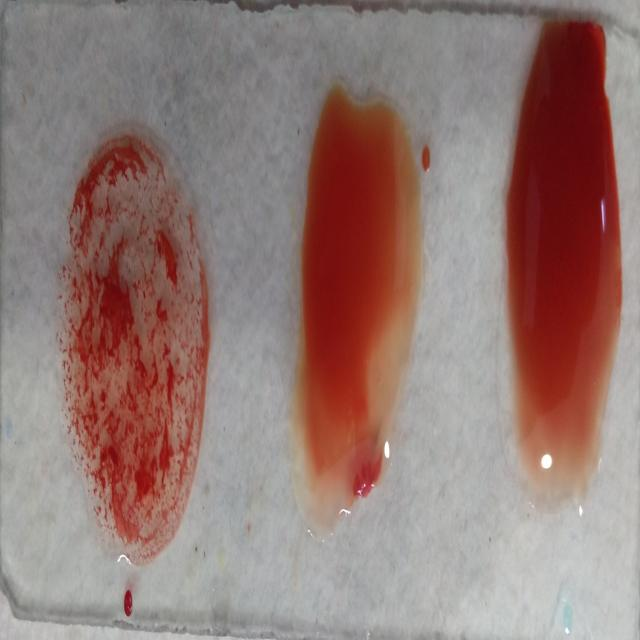D: (63, 119, 207, 570)
